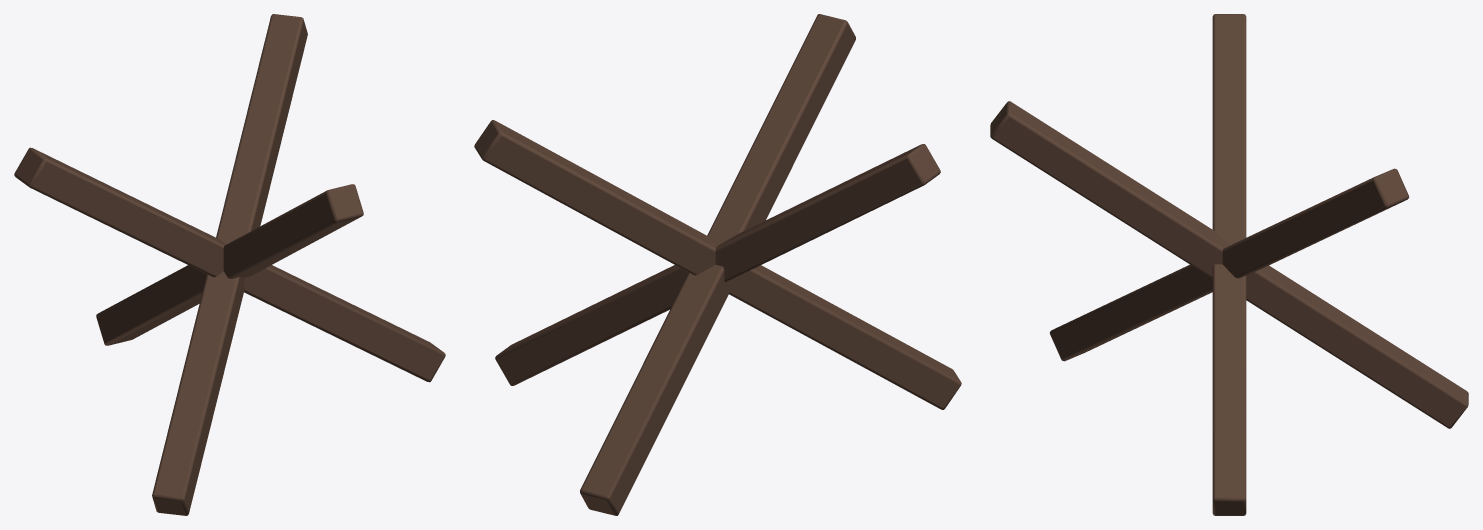
Rendered from Prop_Hedgehog.fbx.
3 renders of one model, left to right at view 1: azimuth 30°, elevation 25°; view 2: azimuth 150°, elevation 25°; view 3: azimuth 270°, elevation 25°, orthographic. The views are drawn at different scales.
Parts seen in each view (by area): view 1: Prop_Hedgehog_Mesh; view 2: Prop_Hedgehog_Mesh; view 3: Prop_Hedgehog_Mesh.
Part boxes in pixels (bbox=[...]): Prop_Hedgehog_Mesh: bbox=[14, 14, 445, 515]; Prop_Hedgehog_Mesh: bbox=[474, 14, 961, 515]; Prop_Hedgehog_Mesh: bbox=[990, 14, 1468, 515].
Size of the model in its own units: 1.7 by 1.24 by 1.7.
